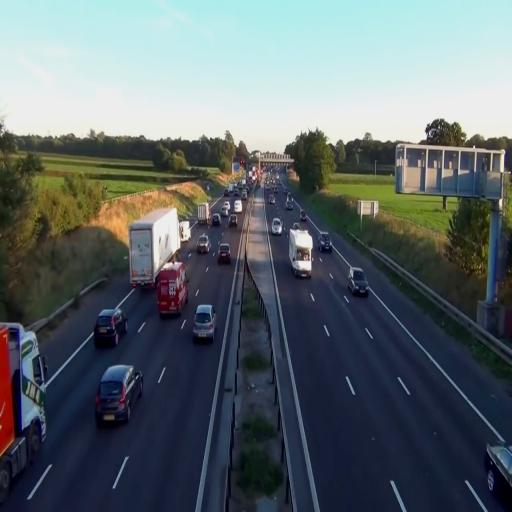vehicle: (0, 322, 47, 502), (128, 206, 182, 288), (128, 205, 180, 289), (94, 364, 144, 424), (156, 260, 189, 320), (484, 441, 512, 503), (93, 307, 127, 349), (288, 227, 312, 278), (192, 304, 217, 342), (348, 268, 368, 295), (196, 234, 210, 256), (216, 243, 231, 263), (270, 216, 284, 236), (318, 232, 330, 252)
